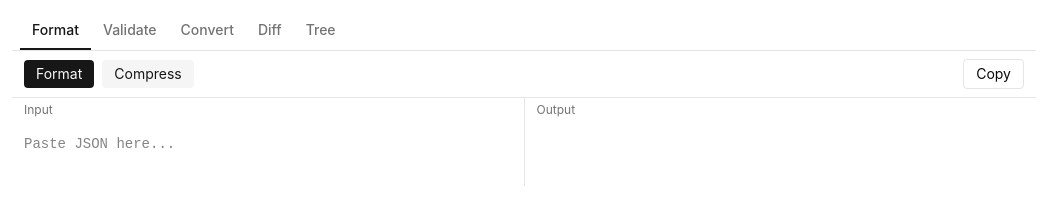
Test case: JsonFormatterPanel › switches to Tree view on tab click
Step 1. Click the button with test id "tab-tree" → [321, 31], box [294, 12, 348, 50]
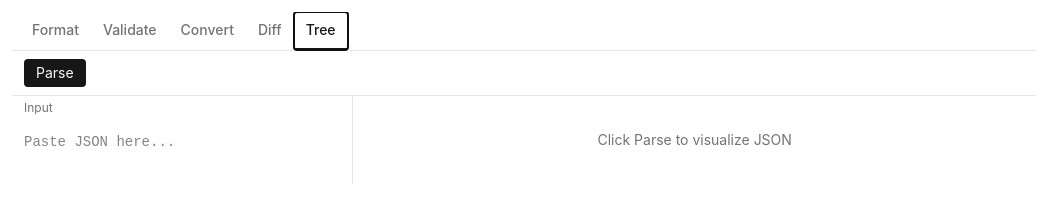
Expected: the element with test id "tree-view" is shown
